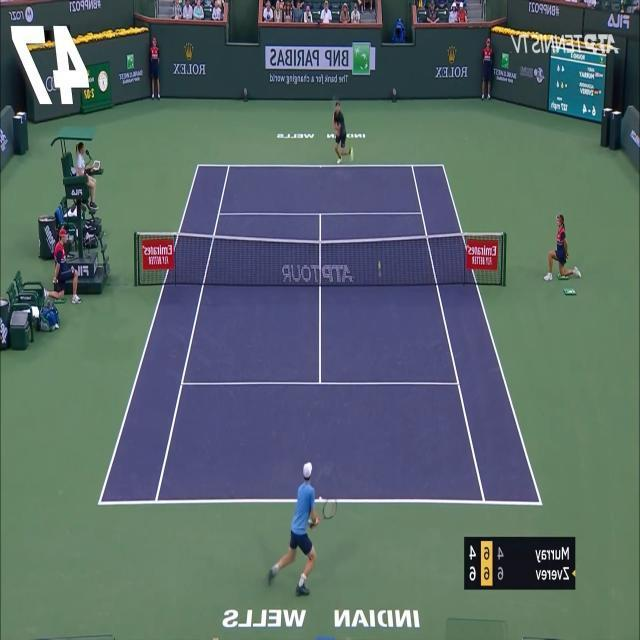court: (96, 165, 542, 506)
net: (132, 229, 507, 288)
player: (267, 461, 338, 596)
